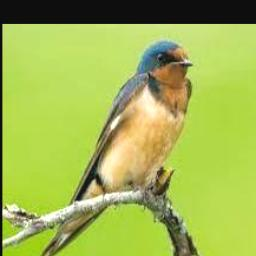Swallow: (26, 39, 192, 256)
